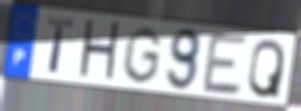9: (163, 26, 202, 94)
E: (200, 31, 250, 98)
G: (120, 25, 164, 86)
H: (76, 17, 122, 86)
Q: (246, 37, 287, 100)
T: (46, 15, 77, 77)
